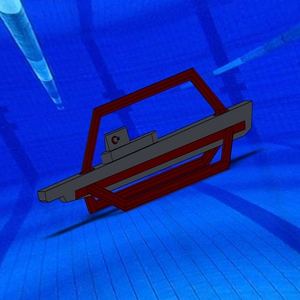submarine: (35, 65, 256, 222)
